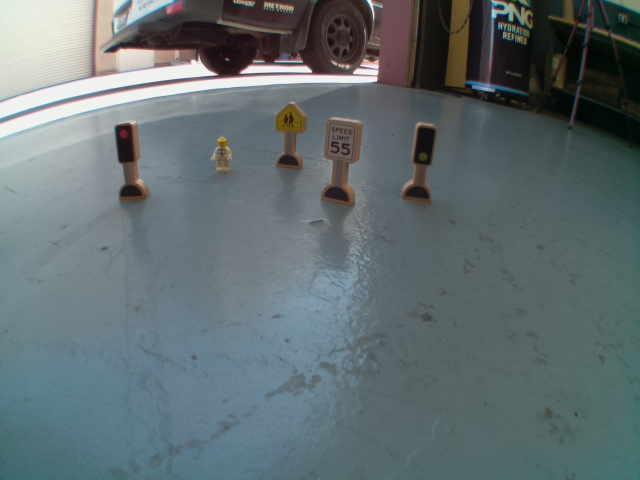Green Traffic Light: (409, 121, 438, 169)
Red Traffic Light: (111, 118, 142, 166)
Speed Limit 55: (323, 117, 361, 165)
YIELD: (273, 98, 307, 138)
person: (206, 135, 238, 176)
